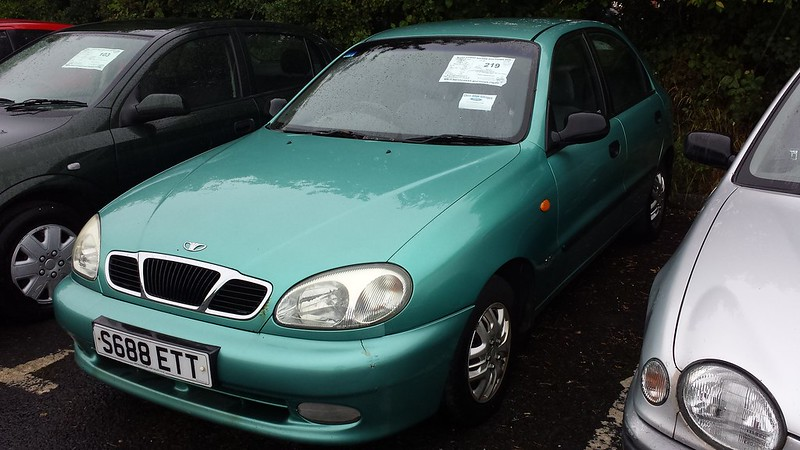number_plate: (81, 313, 224, 390)
